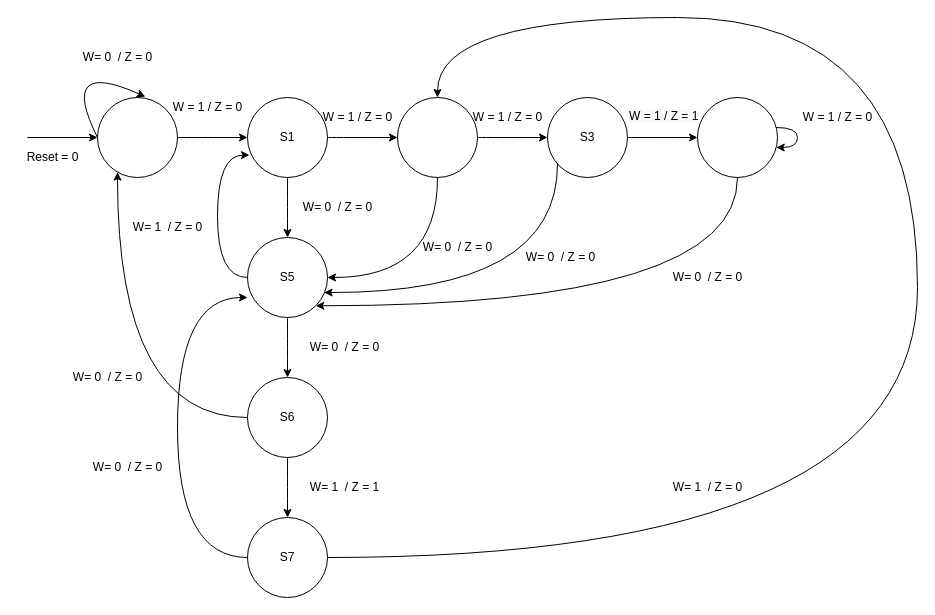
Image size: 935x615. Some labels were removed from this diagram. The box of each missing label's shape, as (x1, y1, x2, y2) in pixels:
S0: (96, 96, 178, 178)
S2: (396, 96, 478, 178)
S4: (696, 96, 778, 178)
